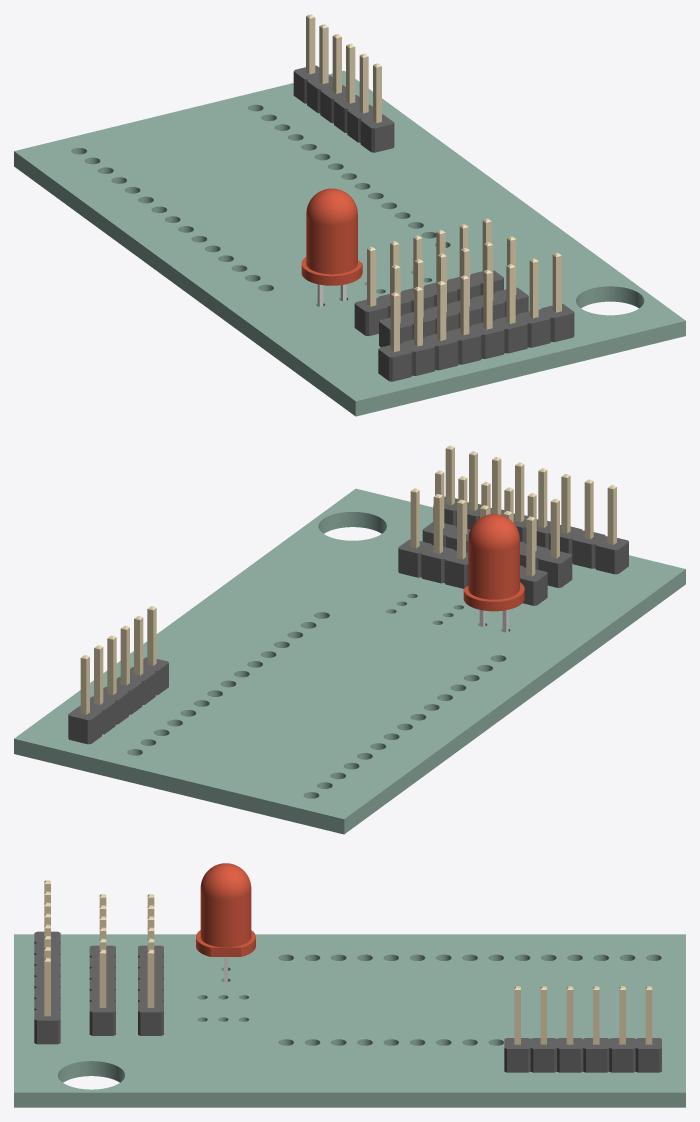
Rendered from PCB.gltf.
3 renders of one model, top to bottom at view 1: azimuth 30°, elevation 25°; view 2: azimuth 150°, elevation 25°; view 3: azimuth 270°, elevation 25°, orthographic.
Visible parts, largest first — view 1: Node5, Node1, Node2, Node3; view 2: Node5, Node2, Node1, Node3; view 3: Node5, Node1, Node2, Node3.
Boxes of the visible parts, left/top/right/bottom form: Node5: left=14, top=70, right=685, bottom=416; Node1: left=293, top=65, right=574, bottom=381; Node2: left=306, top=14, right=561, bottom=352; Node3: left=301, top=188, right=362, bottom=285; Node5: left=14, top=488, right=685, bottom=834; Node2: left=80, top=445, right=616, bottom=714; Node1: left=68, top=496, right=628, bottom=744; Node3: left=463, top=514, right=524, bottom=611; Node5: left=14, top=934, right=685, bottom=1107; Node1: left=34, top=931, right=661, bottom=1072; Node2: left=44, top=880, right=652, bottom=1044; Node3: left=196, top=863, right=255, bottom=956.
Bounding box in the file's own units: 36.25 × 14.6 × 65.
